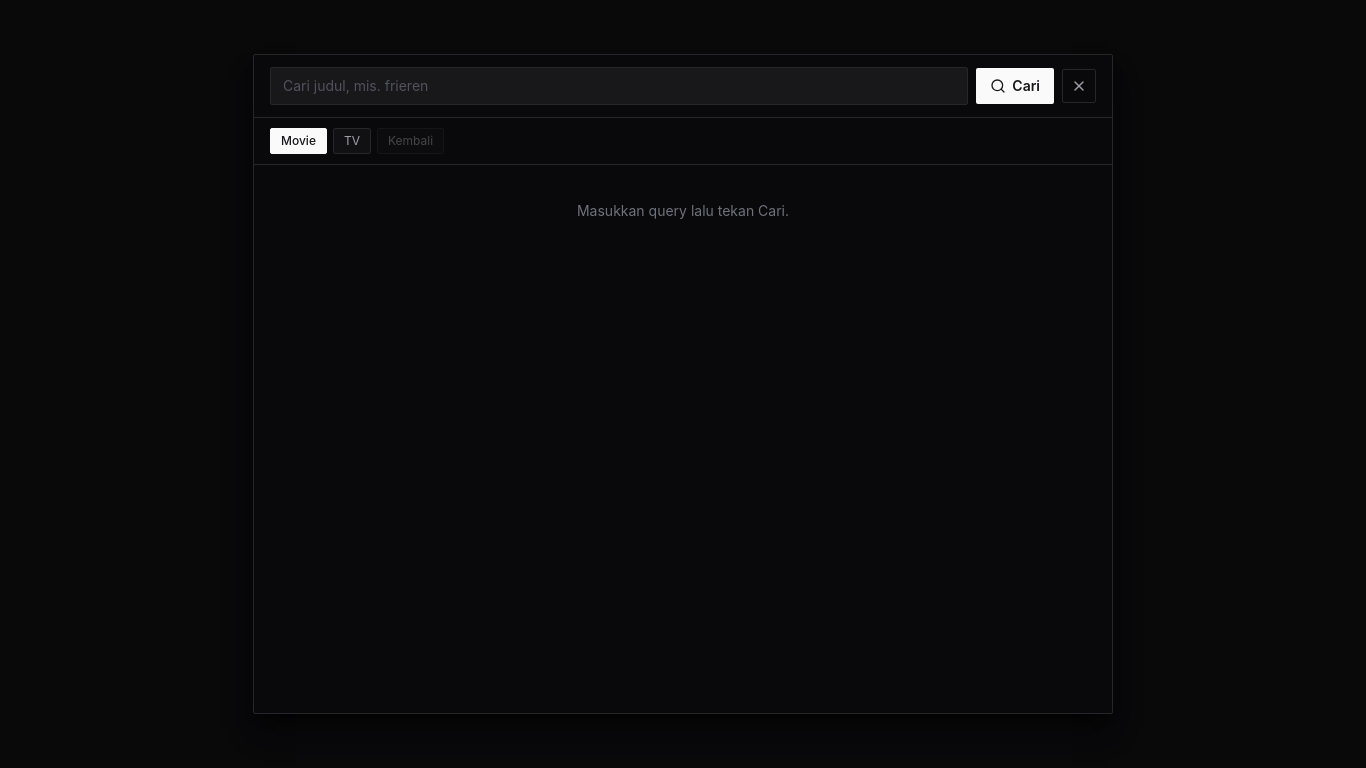
Test case: SearchDialog › tab TV: meta membawa episode, lalu memilih episode menuju stream
This screenshot has width=1366, height=768.
Click the button "TV" at (352, 141), box x1=333 y1=128 x2=371 y2=154
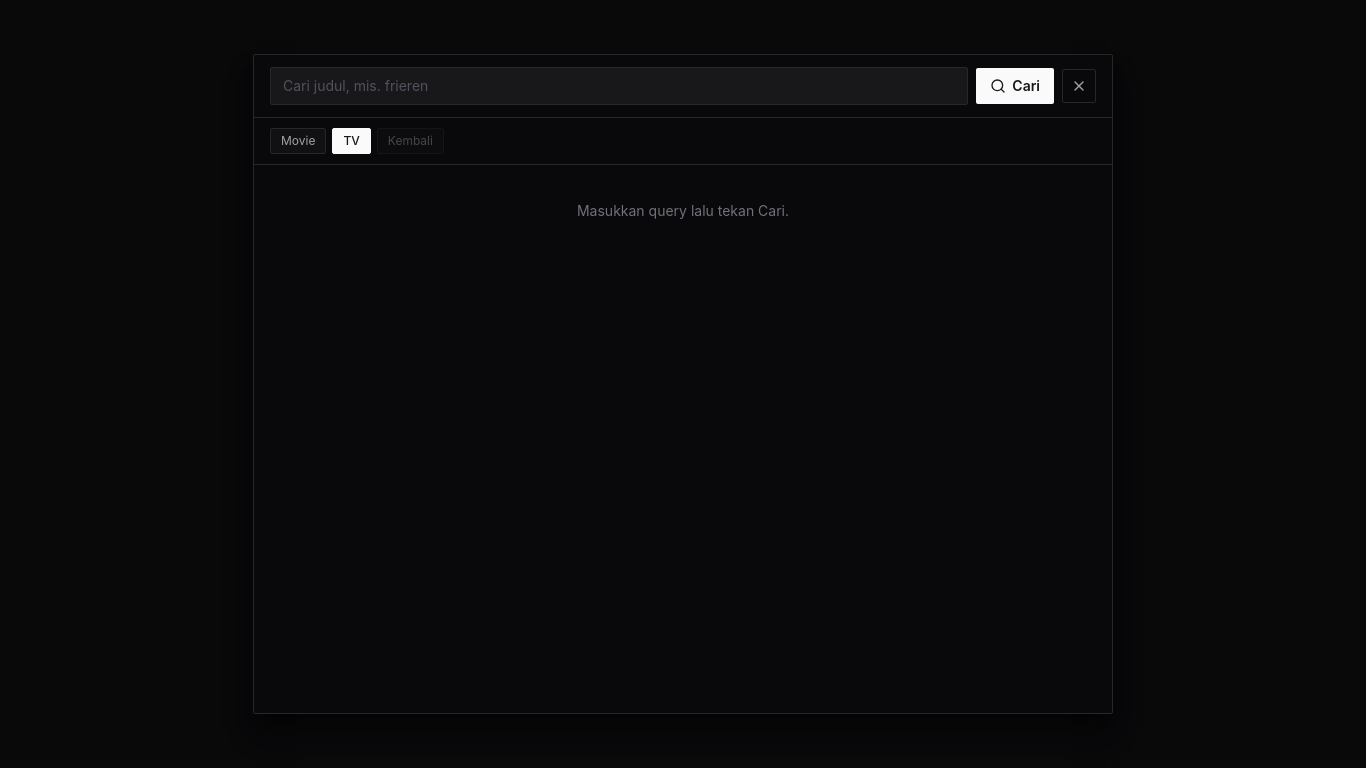
Type "frieren" into the field with placeholder "Cari judul, mis. frieren" at (619, 86), box x1=270 y1=67 x2=968 y2=105
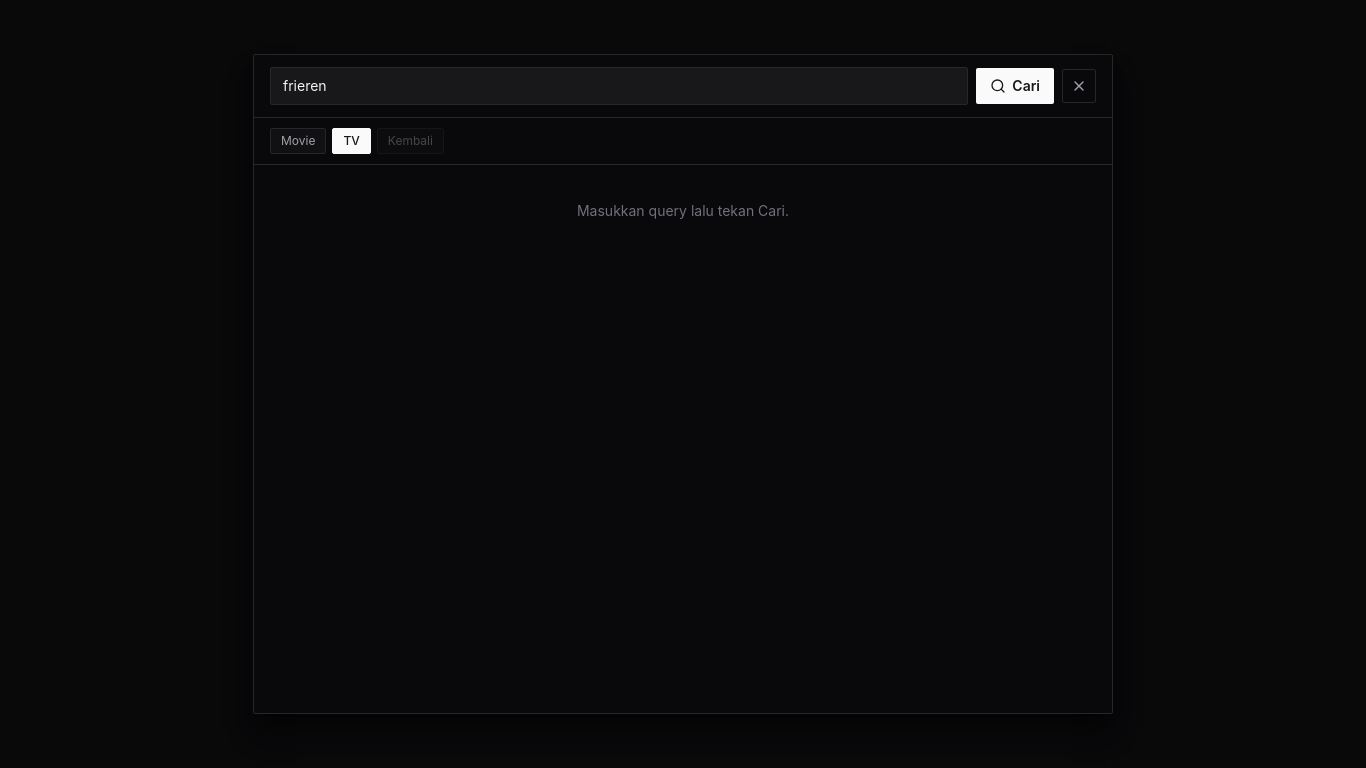
Click the button "Cari" at (1015, 86), box x1=976 y1=68 x2=1054 y2=104
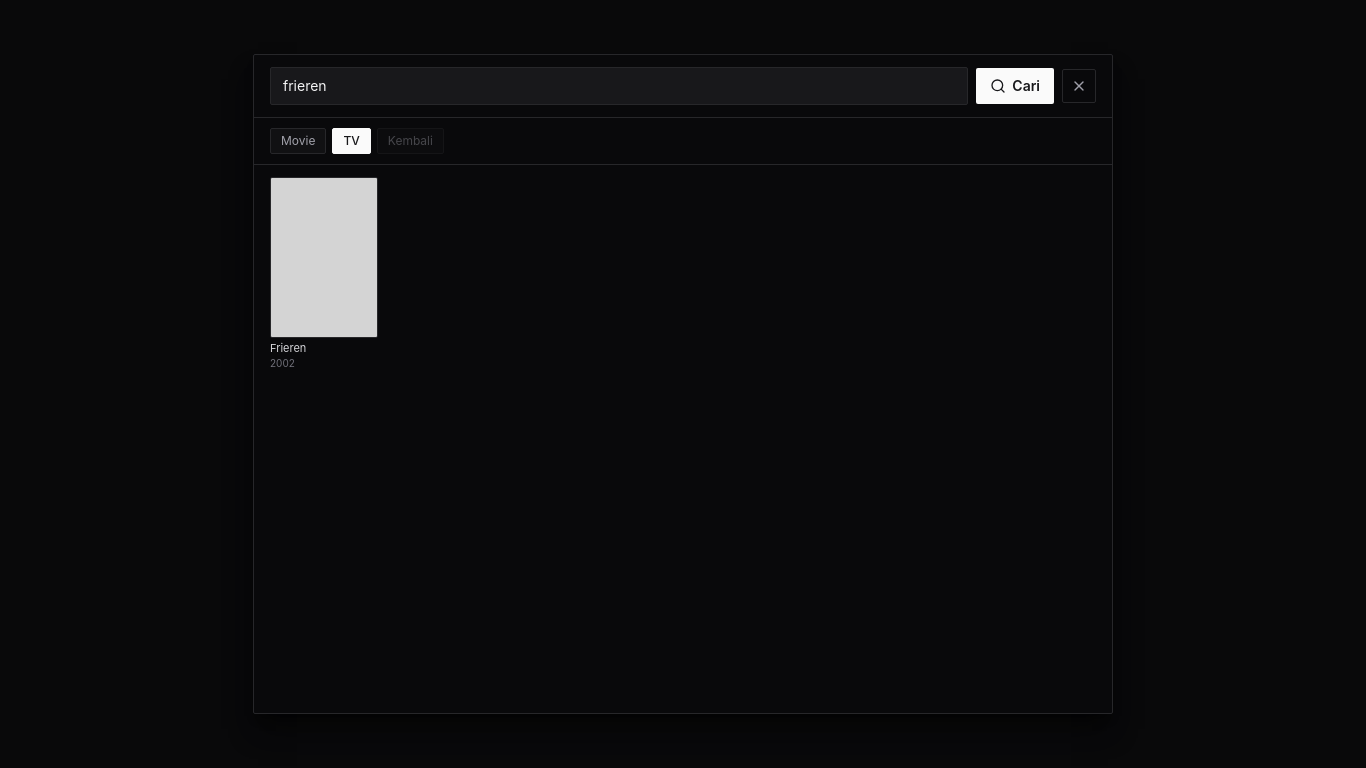
Click the text "Frieren" at (288, 349), box x1=270 y1=342 x2=306 y2=356
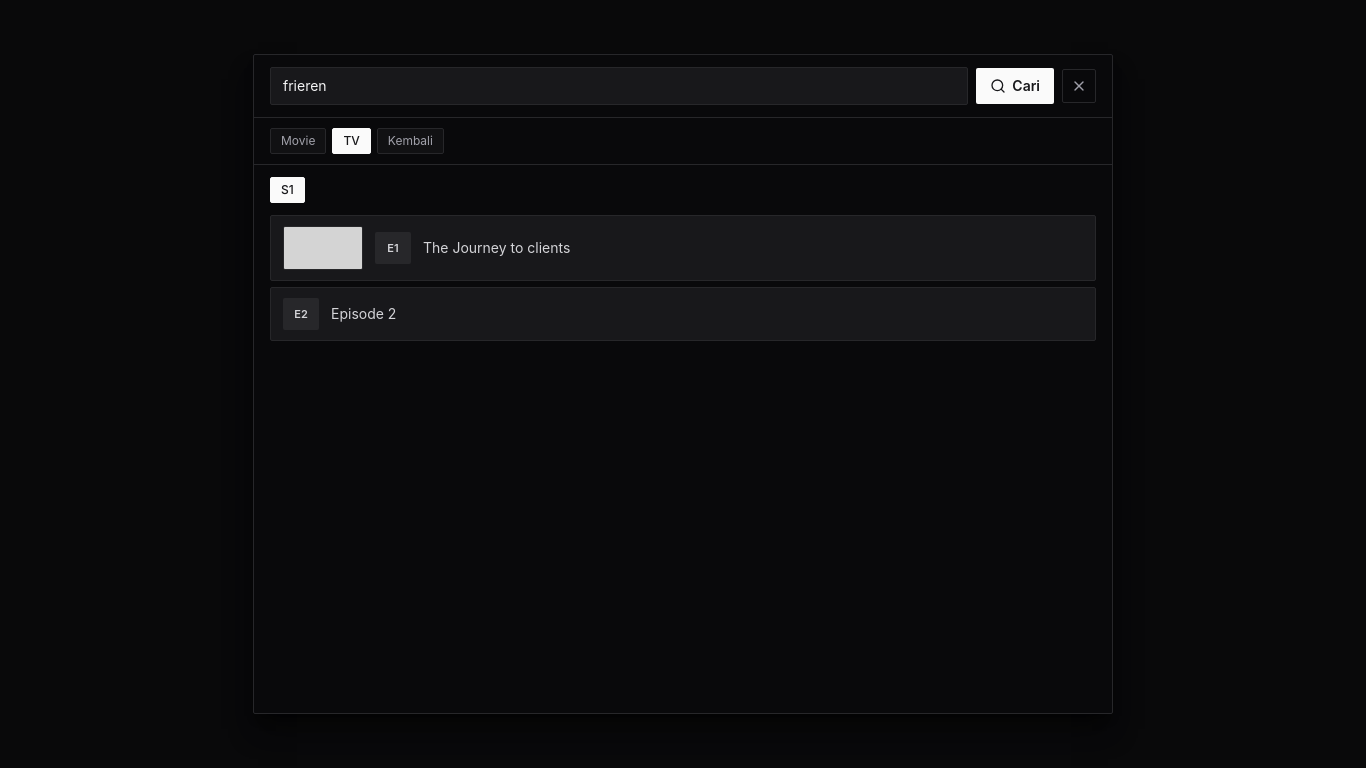
Check: the text "The Journey to clients" is shown
Check: the button "S1" is shown, box x1=270 y1=177 x2=305 y2=203
Click the text "The Journey to clients" at (497, 248), box x1=423 y1=238 x2=570 y2=258
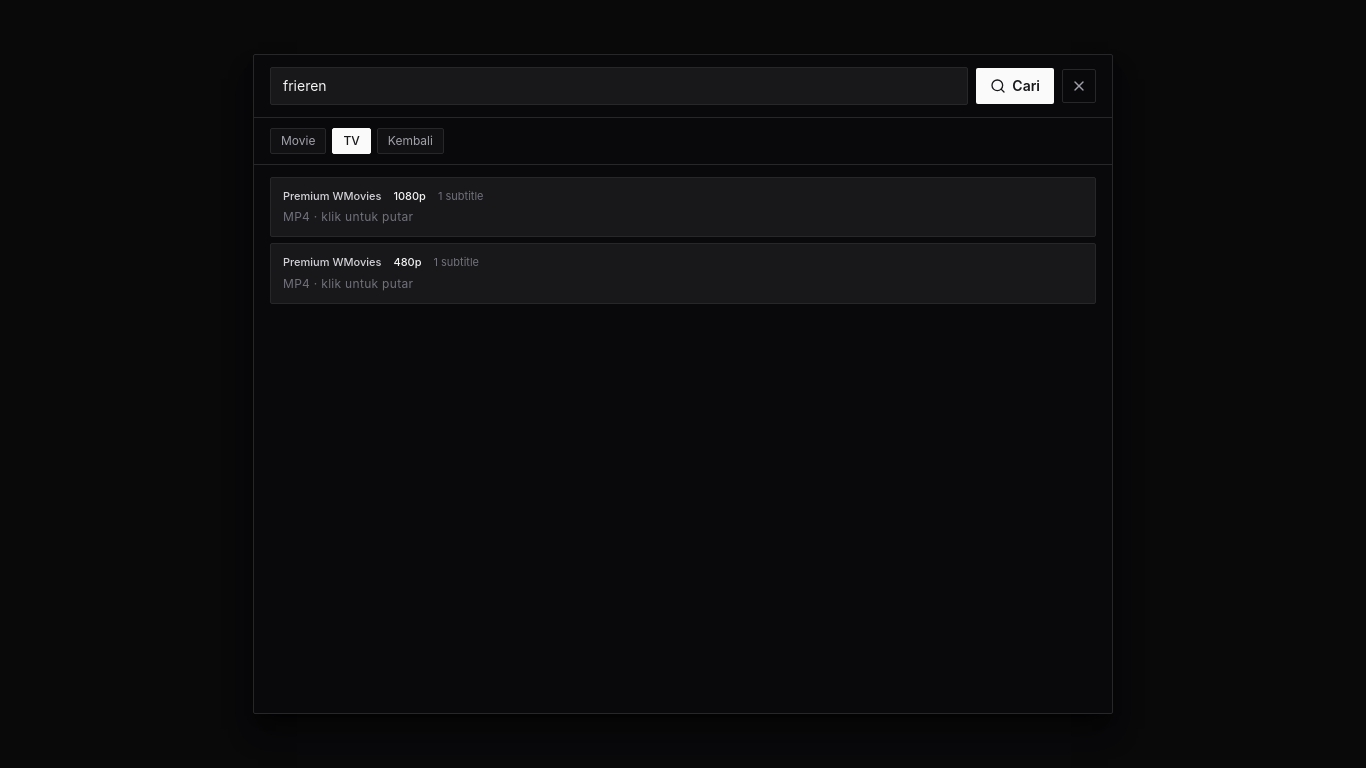
Check: the 1st text "Premium WMovies" is shown, box x1=283 y1=188 x2=381 y2=204
